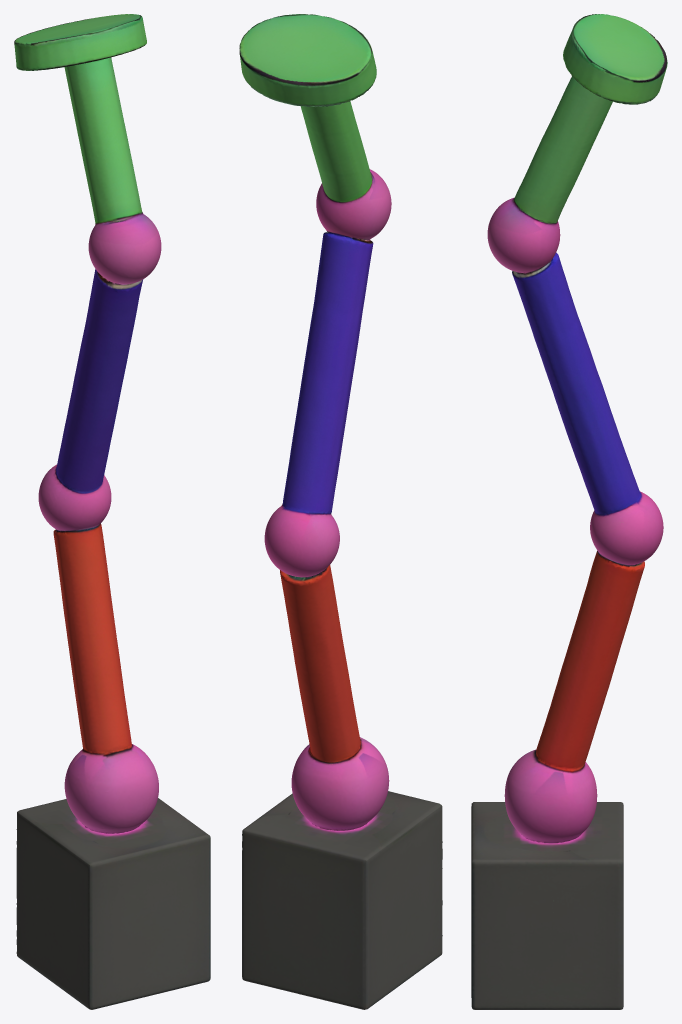
The model's file is hockey_v3.glb.
The picture shows the model from 3 angles, left to right: view 1: azimuth 30°, elevation 25°; view 2: azimuth 150°, elevation 25°; view 3: azimuth 270°, elevation 25°; orthographic projection. The views are drawn at different scales.
Parts seen in each view (by area): view 1: tripo_node_8433c8d7-fd3d-45c3-a758-813d05608ed8; view 2: tripo_node_8433c8d7-fd3d-45c3-a758-813d05608ed8; view 3: tripo_node_8433c8d7-fd3d-45c3-a758-813d05608ed8.
Part boxes in pixels (<box>): tripo_node_8433c8d7-fd3d-45c3-a758-813d05608ed8: <box>14,14,210,1009</box>; tripo_node_8433c8d7-fd3d-45c3-a758-813d05608ed8: <box>239,14,442,1009</box>; tripo_node_8433c8d7-fd3d-45c3-a758-813d05608ed8: <box>471,14,667,1009</box>.
Bounding box in the file's own units: 0.1372 × 1 × 0.1874.
Materials: 1 (1 with a texture image).
